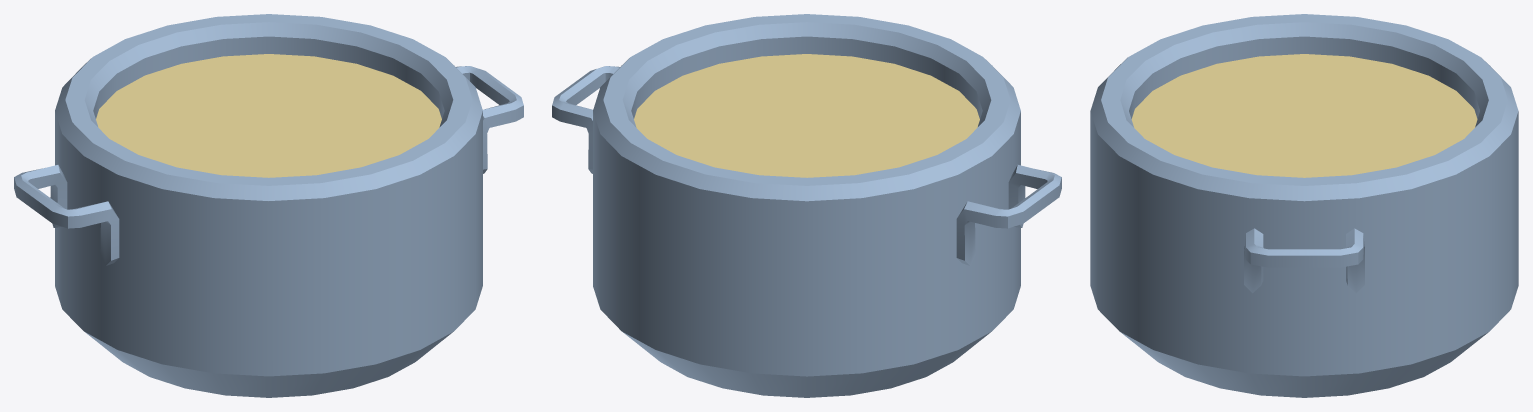
File: pot.glb
3 renders of one model, left to right at view 1: azimuth 30°, elevation 25°; view 2: azimuth 150°, elevation 25°; view 3: azimuth 270°, elevation 25°, orthographic.
Parts seen in each view (by area): view 1: pot-parent, soup-parent; view 2: pot-parent, soup-parent; view 3: pot-parent, soup-parent.
Boxes of the visible parts, x1,y1,x2,y2 form: pot-parent: [14, 14, 523, 397]; soup-parent: [96, 54, 441, 177]; pot-parent: [552, 14, 1061, 397]; soup-parent: [634, 54, 979, 177]; pot-parent: [1090, 14, 1518, 397]; soup-parent: [1131, 54, 1477, 177].
Size of the model in its own units: 1.58 by 0.7312 by 1.25.
